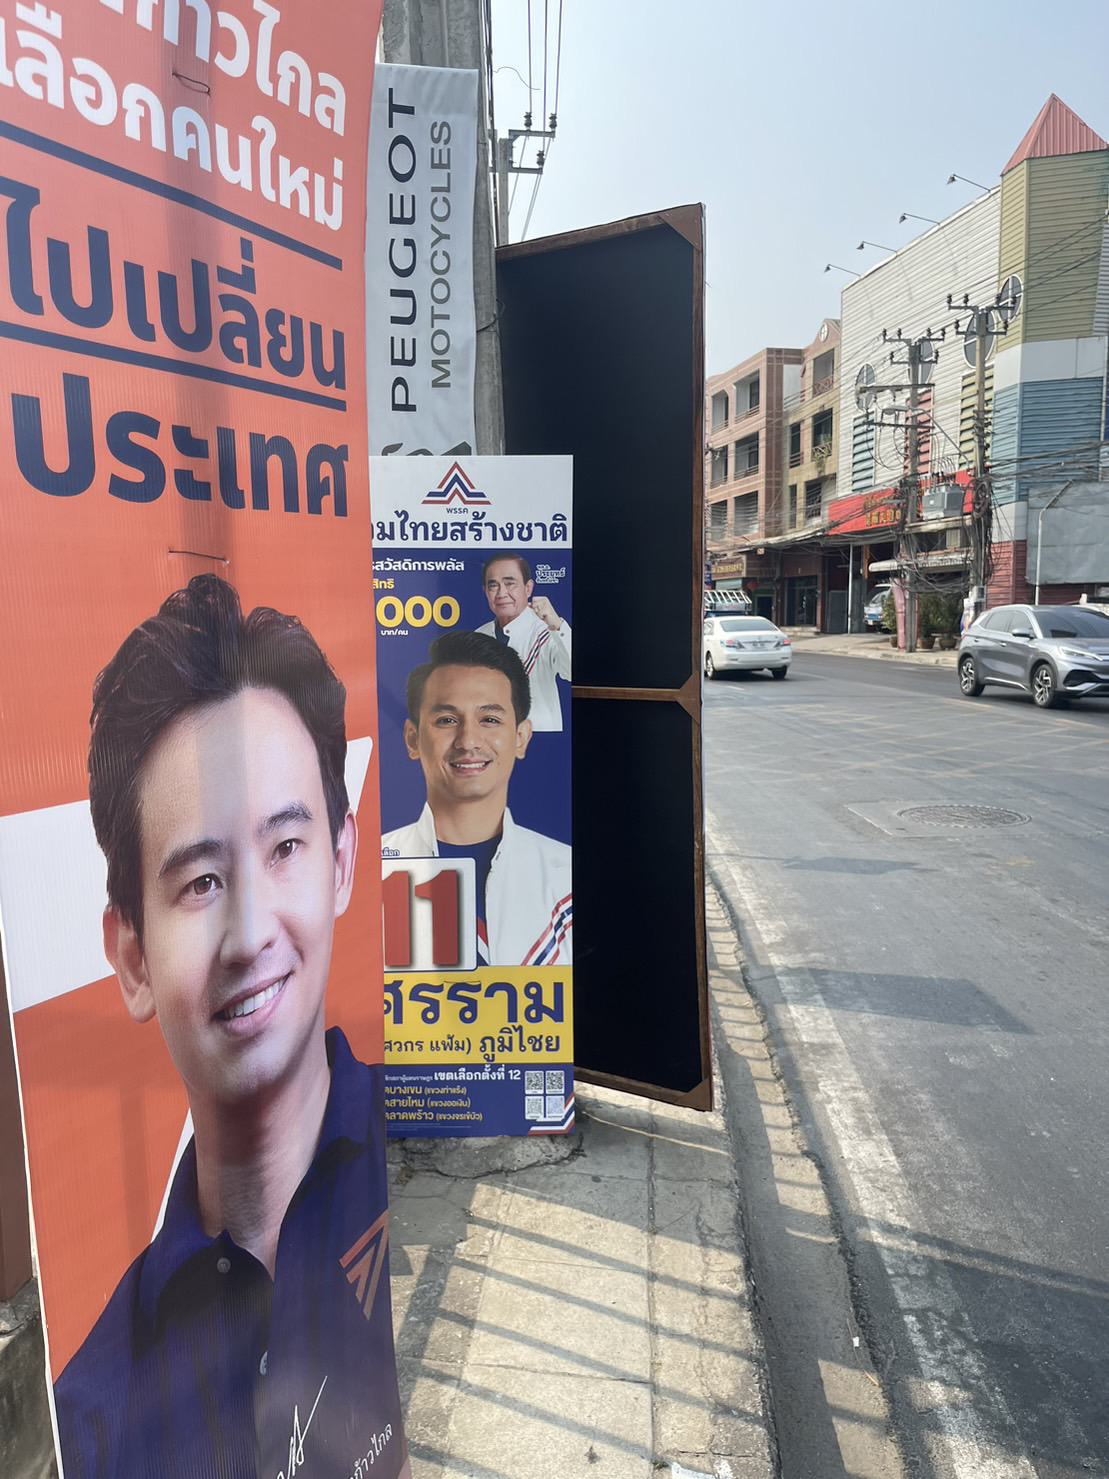Banner: (2, 3, 404, 1477), (358, 450, 574, 1135)
